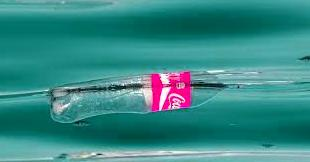Plastic: (39, 71, 248, 131)
